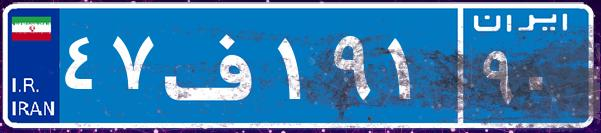0: (525, 38, 570, 115)
1: (385, 28, 445, 110), (273, 28, 330, 110)
4: (57, 26, 110, 107)
7: (110, 28, 158, 105)
9: (330, 28, 385, 110), (475, 38, 525, 113)
ف: (158, 15, 273, 115)
